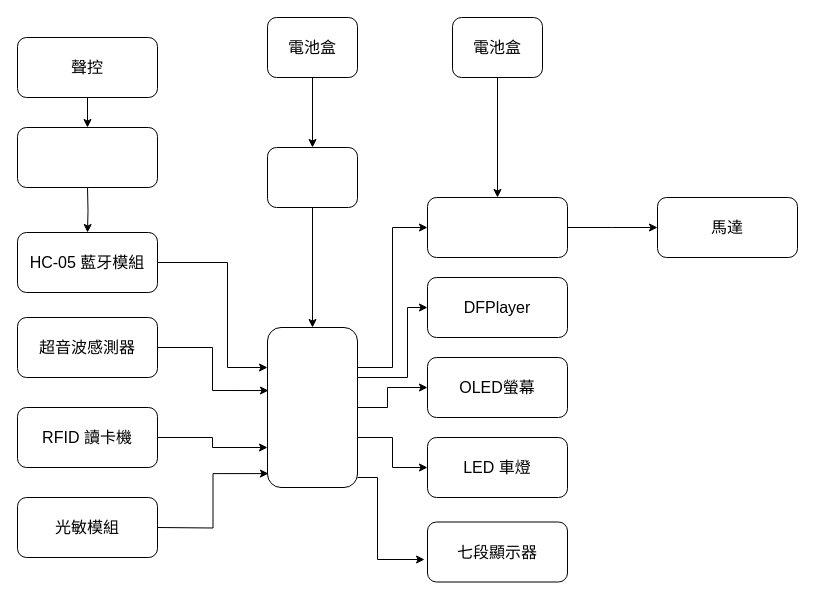
Image size: 815x600. Some labels were removed from this diagram. Each missing label, with the centre of its shape:
"APP" belongs at point 87,157.
"L298N 馬達驅動" belongs at point 497,227.
"PIC18F4520" belongs at point 312,407.
"升壓器" belongs at point 312,177.
